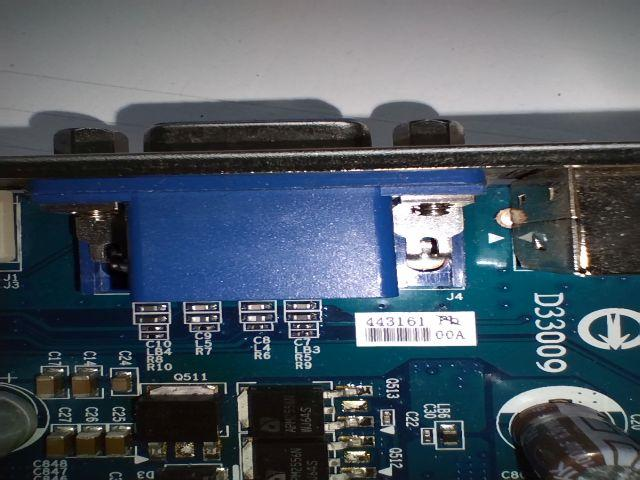resistor: (132, 328, 174, 346), (242, 318, 274, 336)
